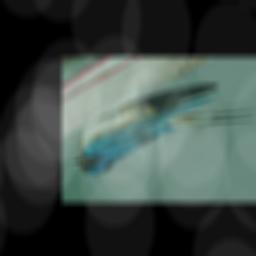Swallow: (70, 83, 255, 176)
